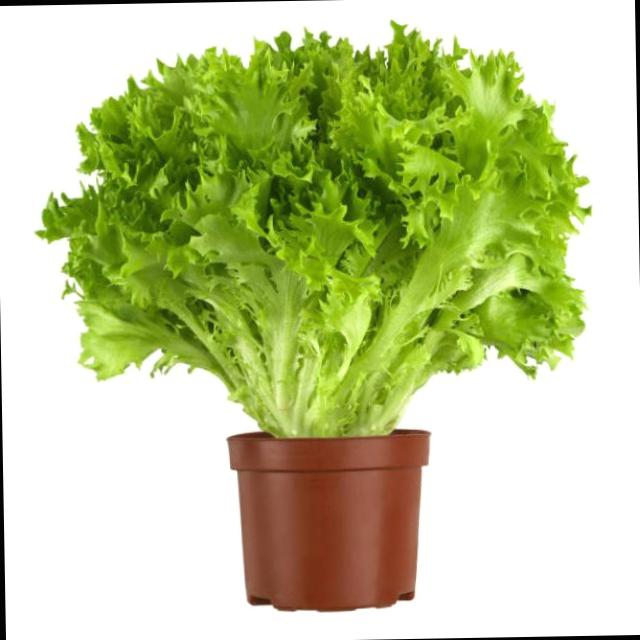Lettuce-Ready-to-Harvest: (38, 24, 588, 436)
